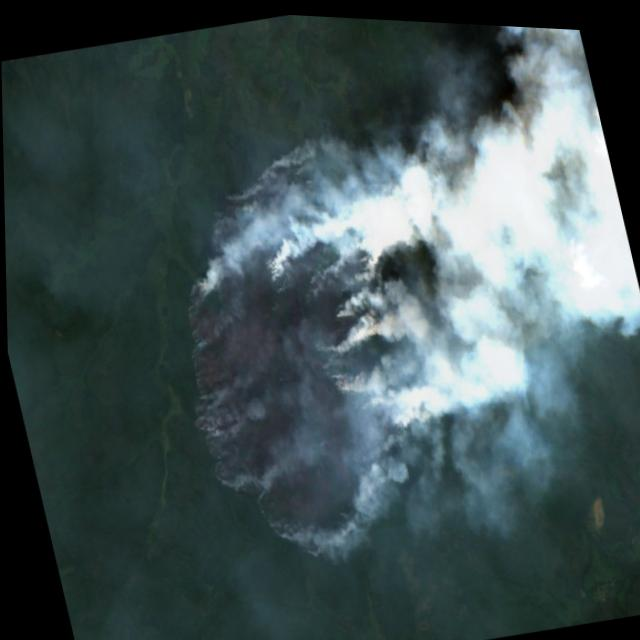fire: (135, 127, 455, 576)
